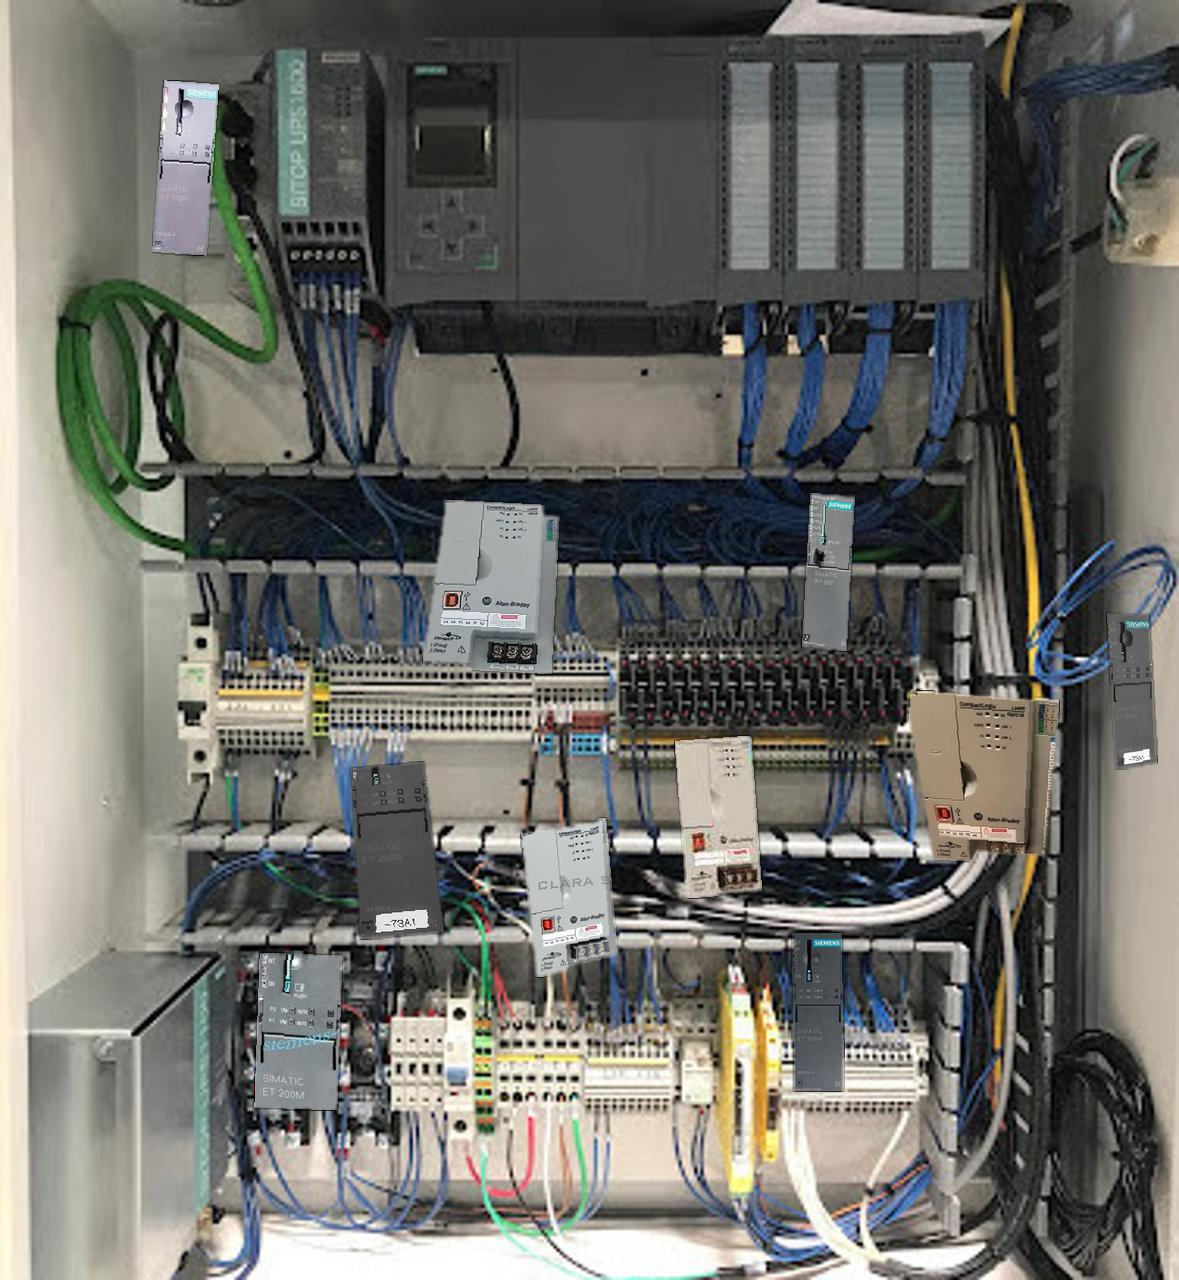AllenBradley: (909, 690, 1059, 861), (423, 500, 558, 673), (521, 818, 616, 976), (675, 736, 761, 896)
Siemens: (802, 493, 854, 650)
